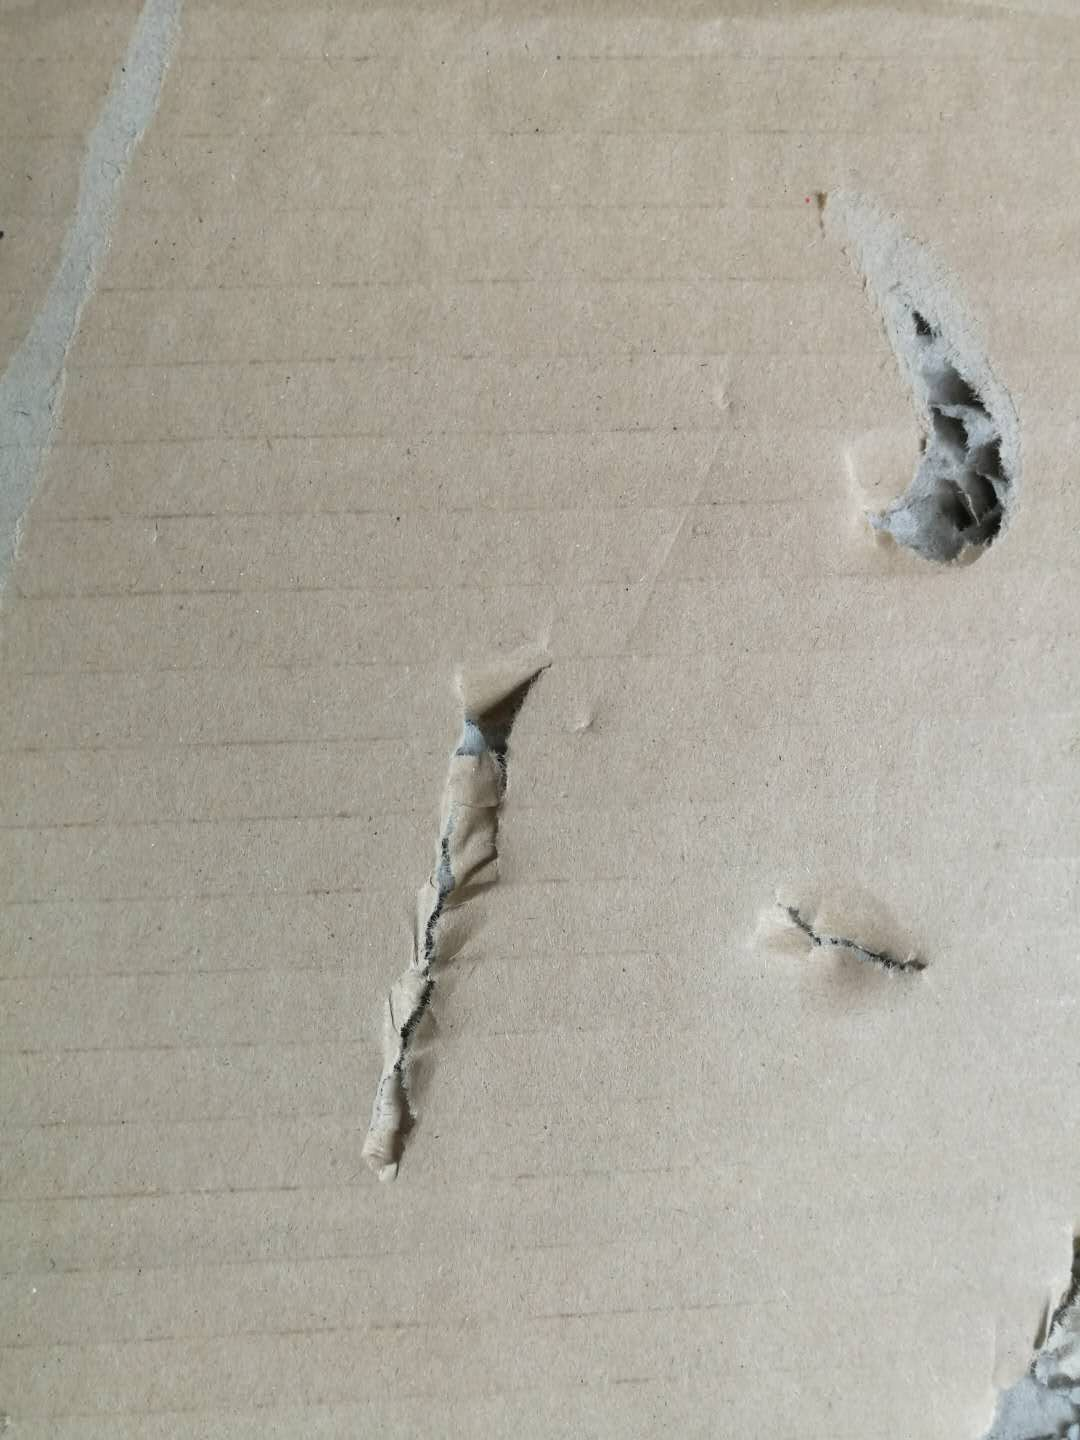defect: (340, 618, 625, 1213), (2, 2, 211, 632), (788, 168, 1055, 625), (731, 844, 955, 1037), (951, 1212, 1077, 1440)
